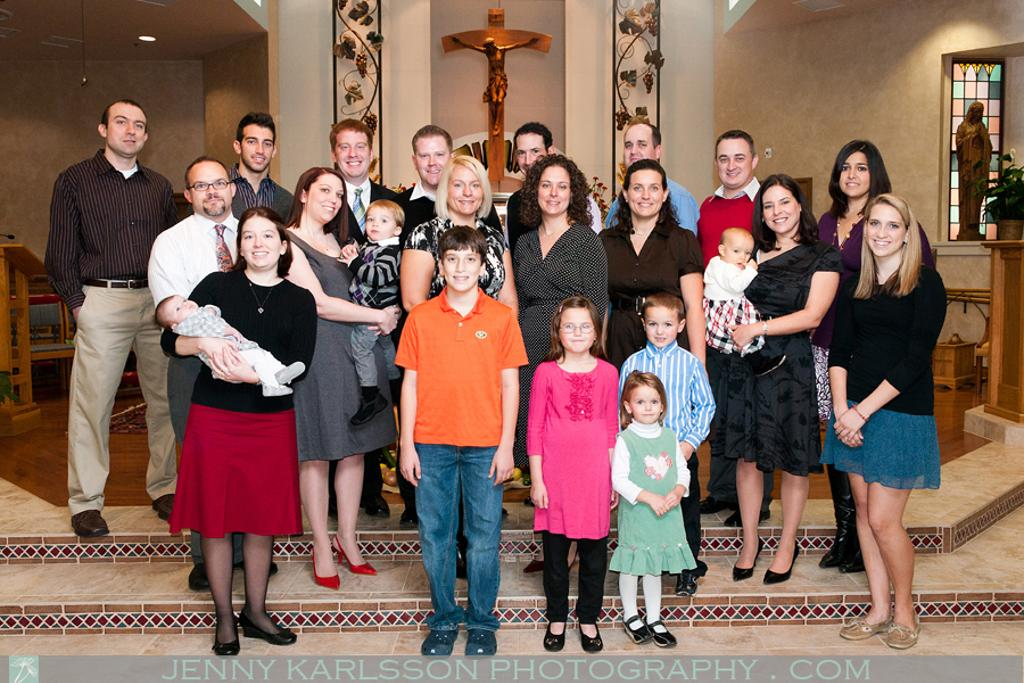face: (866, 207, 905, 255), (189, 170, 230, 213), (241, 222, 279, 267), (106, 112, 145, 152), (305, 180, 343, 221), (763, 190, 799, 233), (447, 170, 482, 213), (627, 173, 662, 215), (443, 251, 480, 290), (838, 155, 873, 196), (416, 141, 450, 183), (717, 142, 750, 185), (335, 135, 369, 176), (559, 312, 593, 351), (240, 129, 273, 169), (517, 137, 548, 178), (540, 173, 571, 213), (624, 132, 655, 172), (645, 311, 678, 346), (631, 389, 660, 423), (366, 210, 394, 237), (724, 241, 751, 268), (171, 295, 196, 320)
